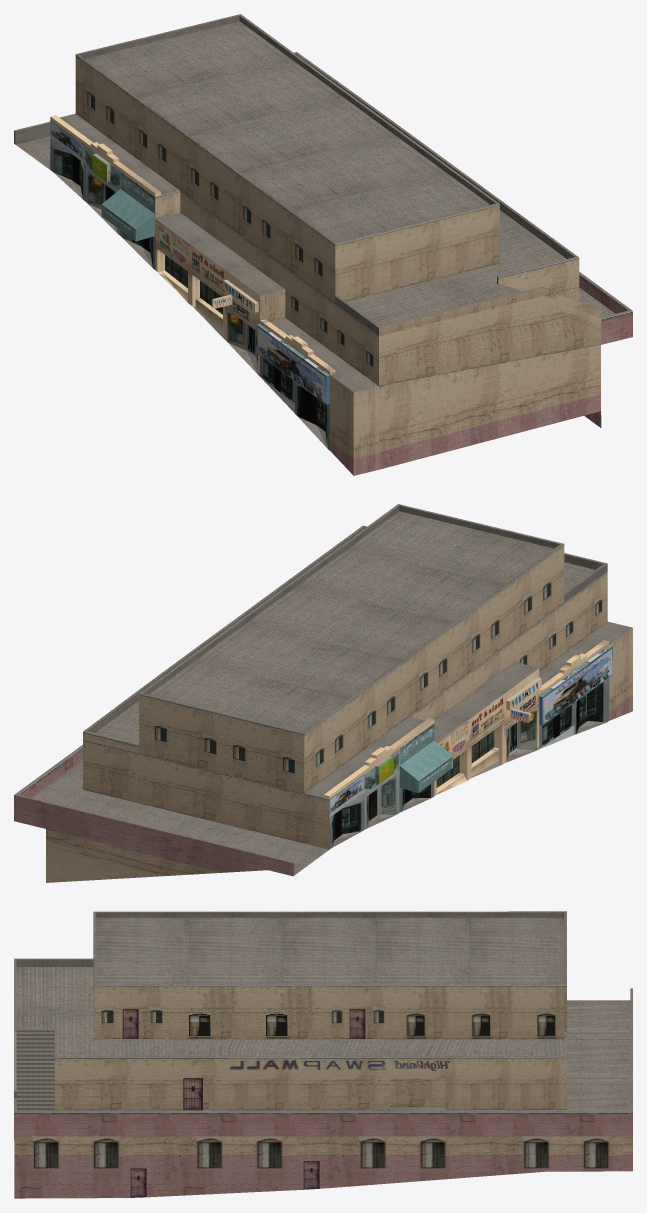
The model's file is barrio03a_lae.obj.
3 renders of one model, top to bottom at view 1: azimuth 30°, elevation 25°; view 2: azimuth 150°, elevation 25°; view 3: azimuth 270°, elevation 25°, orthographic. The views are drawn at different scales.
Visible parts, largest first — view 1: barrio03A_LAe; view 2: barrio03A_LAe; view 3: barrio03A_LAe.
Boxes of the visible parts, <box> form: barrio03A_LAe: <box>14,14,632,475</box>; barrio03A_LAe: <box>14,504,632,882</box>; barrio03A_LAe: <box>14,911,632,1198</box>.
Bounding box in the file's own units: 23.67 × 15.63 × 46.61.
